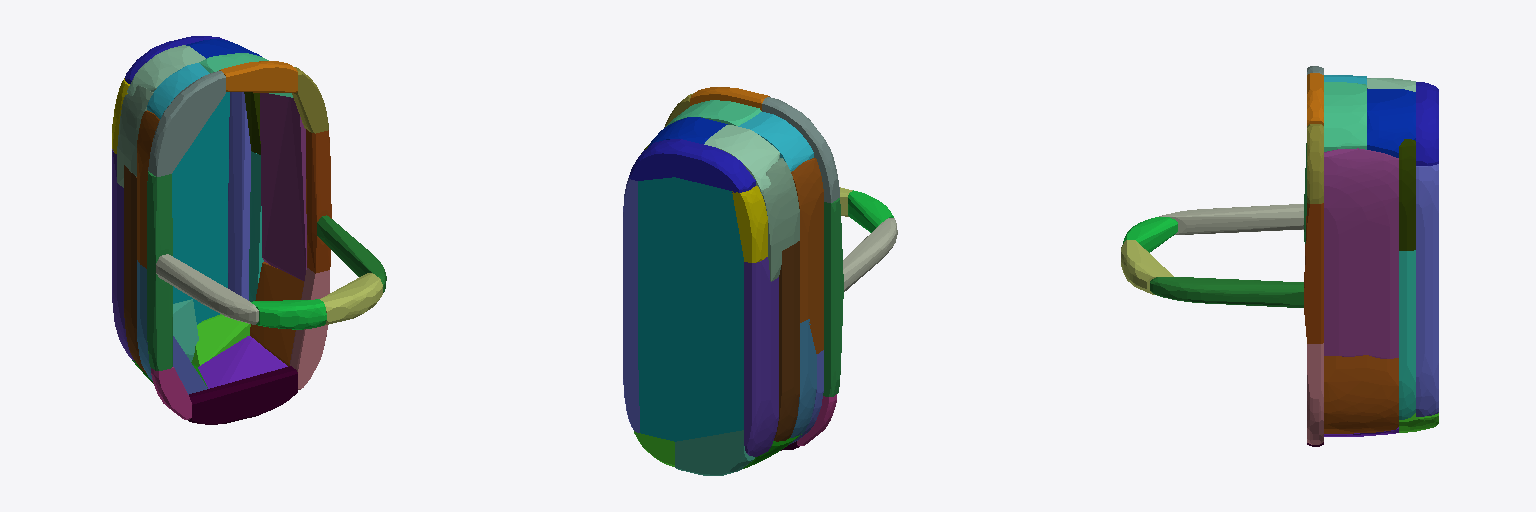
File: Boite3.obj
3 views of the same model, side by side, from view 1: azimuth 30°, elevation 25°; view 2: azimuth 150°, elevation 25°; view 3: azimuth 270°, elevation 25° (orthographic).
Visible parts, largest first — view 1: ShapeIndexedFaceSet.026_ShapeIndexedFaceSet.027, ShapeIndexedFaceSet.024_ShapeIndexedFaceSet.025, ShapeIndexedFaceSet.008_ShapeIndexedFaceSet.009, ShapeIndexedFaceSet.028_ShapeIndexedFaceSet.029, ShapeIndexedFaceSet.010_ShapeIndexedFaceSet.011, ShapeIndexedFaceSet.009_ShapeIndexedFaceSet.010, ShapeIndexedFaceSet.005_ShapeIndexedFaceSet.006, ShapeIndexedFaceSet_ShapeIndexedFaceSet.001, ShapeIndexedFaceSet.022_ShapeIndexedFaceSet.023, ShapeIndexedFaceSet.023_ShapeIndexedFaceSet.024, ShapeIndexedFaceSet.021_ShapeIndexedFaceSet.022, ShapeIndexedFaceSet.004_ShapeIndexedFaceSet.005 (+20 smaller); view 2: ShapeIndexedFaceSet.026_ShapeIndexedFaceSet.027, ShapeIndexedFaceSet.012_ShapeIndexedFaceSet.013, ShapeIndexedFaceSet.030_ShapeIndexedFaceSet.031, ShapeIndexedFaceSet.013_ShapeIndexedFaceSet.014, ShapeIndexedFaceSet.021_ShapeIndexedFaceSet.022, ShapeIndexedFaceSet.028_ShapeIndexedFaceSet.029, ShapeIndexedFaceSet.008_ShapeIndexedFaceSet.009, ShapeIndexedFaceSet.017_ShapeIndexedFaceSet.018, ShapeIndexedFaceSet.033_ShapeIndexedFaceSet, ShapeIndexedFaceSet.018_ShapeIndexedFaceSet.019, ShapeIndexedFaceSet.010_ShapeIndexedFaceSet.011, ShapeIndexedFaceSet.027_ShapeIndexedFaceSet.028 (+10 smaller); view 3: ShapeIndexedFaceSet.024_ShapeIndexedFaceSet.025, ShapeIndexedFaceSet.028_ShapeIndexedFaceSet.029, ShapeIndexedFaceSet.023_ShapeIndexedFaceSet.024, ShapeIndexedFaceSet.003_ShapeIndexedFaceSet.004, ShapeIndexedFaceSet_ShapeIndexedFaceSet.001, ShapeIndexedFaceSet.019_ShapeIndexedFaceSet.020, ShapeIndexedFaceSet.032_ShapeIndexedFaceSet.033, ShapeIndexedFaceSet.016_ShapeIndexedFaceSet.017, ShapeIndexedFaceSet.005_ShapeIndexedFaceSet.006, ShapeIndexedFaceSet.013_ShapeIndexedFaceSet.014, ShapeIndexedFaceSet.020_ShapeIndexedFaceSet.021, ShapeIndexedFaceSet.004_ShapeIndexedFaceSet.005 (+5 smaller).
Boxes of the visible parts, <box> form: ShapeIndexedFaceSet.026_ShapeIndexedFaceSet.027: <box>172,92,229,324</box>; ShapeIndexedFaceSet.024_ShapeIndexedFaceSet.025: <box>260,93,306,280</box>; ShapeIndexedFaceSet.008_ShapeIndexedFaceSet.009: <box>147,171,172,370</box>; ShapeIndexedFaceSet.028_ShapeIndexedFaceSet.029: <box>228,92,250,300</box>; ShapeIndexedFaceSet.010_ShapeIndexedFaceSet.011: <box>148,71,225,176</box>; ShapeIndexedFaceSet.009_ShapeIndexedFaceSet.010: <box>188,366,297,424</box>; ShapeIndexedFaceSet.005_ShapeIndexedFaceSet.006: <box>306,129,331,273</box>; ShapeIndexedFaceSet_ShapeIndexedFaceSet.001: <box>156,254,258,324</box>; ShapeIndexedFaceSet.022_ShapeIndexedFaceSet.023: <box>198,336,287,388</box>; ShapeIndexedFaceSet.023_ShapeIndexedFaceSet.024: <box>250,262,303,366</box>; ShapeIndexedFaceSet.021_ShapeIndexedFaceSet.022: <box>124,165,146,373</box>; ShapeIndexedFaceSet.004_ShapeIndexedFaceSet.005: <box>290,268,329,389</box>; ShapeIndexedFaceSet.026_ShapeIndexedFaceSet.027: <box>638,177,743,441</box>; ShapeIndexedFaceSet.012_ShapeIndexedFaceSet.013: <box>744,257,778,456</box>; ShapeIndexedFaceSet.030_ShapeIndexedFaceSet.031: <box>791,158,823,353</box>; ShapeIndexedFaceSet.013_ShapeIndexedFaceSet.014: <box>629,139,755,192</box>; ShapeIndexedFaceSet.021_ShapeIndexedFaceSet.022: <box>774,241,799,441</box>; ShapeIndexedFaceSet.028_ShapeIndexedFaceSet.029: <box>623,178,639,432</box>; ShapeIndexedFaceSet.008_ShapeIndexedFaceSet.009: <box>823,198,843,396</box>; ShapeIndexedFaceSet.017_ShapeIndexedFaceSet.018: <box>761,158,799,281</box>; ShapeIndexedFaceSet.033_ShapeIndexedFaceSet: <box>675,430,754,475</box>; ShapeIndexedFaceSet.018_ShapeIndexedFaceSet.019: <box>704,125,779,192</box>; ShapeIndexedFaceSet.010_ShapeIndexedFaceSet.011: <box>762,97,839,202</box>; ShapeIndexedFaceSet.027_ShapeIndexedFaceSet.028: <box>732,186,767,262</box>; ShapeIndexedFaceSet.024_ShapeIndexedFaceSet.025: <box>1324,148,1398,358</box>; ShapeIndexedFaceSet.028_ShapeIndexedFaceSet.029: <box>1416,164,1438,416</box>; ShapeIndexedFaceSet.023_ShapeIndexedFaceSet.024: <box>1324,355,1398,433</box>; ShapeIndexedFaceSet.003_ShapeIndexedFaceSet.004: <box>1150,277,1303,307</box>; ShapeIndexedFaceSet_ShapeIndexedFaceSet.001: <box>1159,204,1303,234</box>; ShapeIndexedFaceSet.019_ShapeIndexedFaceSet.020: <box>1367,89,1415,157</box>; ShapeIndexedFaceSet.032_ShapeIndexedFaceSet.033: <box>1324,82,1366,151</box>; ShapeIndexedFaceSet.016_ShapeIndexedFaceSet.017: <box>1399,250,1415,419</box>; ShapeIndexedFaceSet.005_ShapeIndexedFaceSet.006: <box>1304,203,1323,343</box>; ShapeIndexedFaceSet.013_ShapeIndexedFaceSet.014: <box>1416,82,1438,165</box>; ShapeIndexedFaceSet.020_ShapeIndexedFaceSet.021: <box>1399,139,1415,250</box>; ShapeIndexedFaceSet.004_ShapeIndexedFaceSet.005: <box>1307,343,1323,444</box>.
Size of the model in its own units: 29.04 by 55.23 by 45.41.